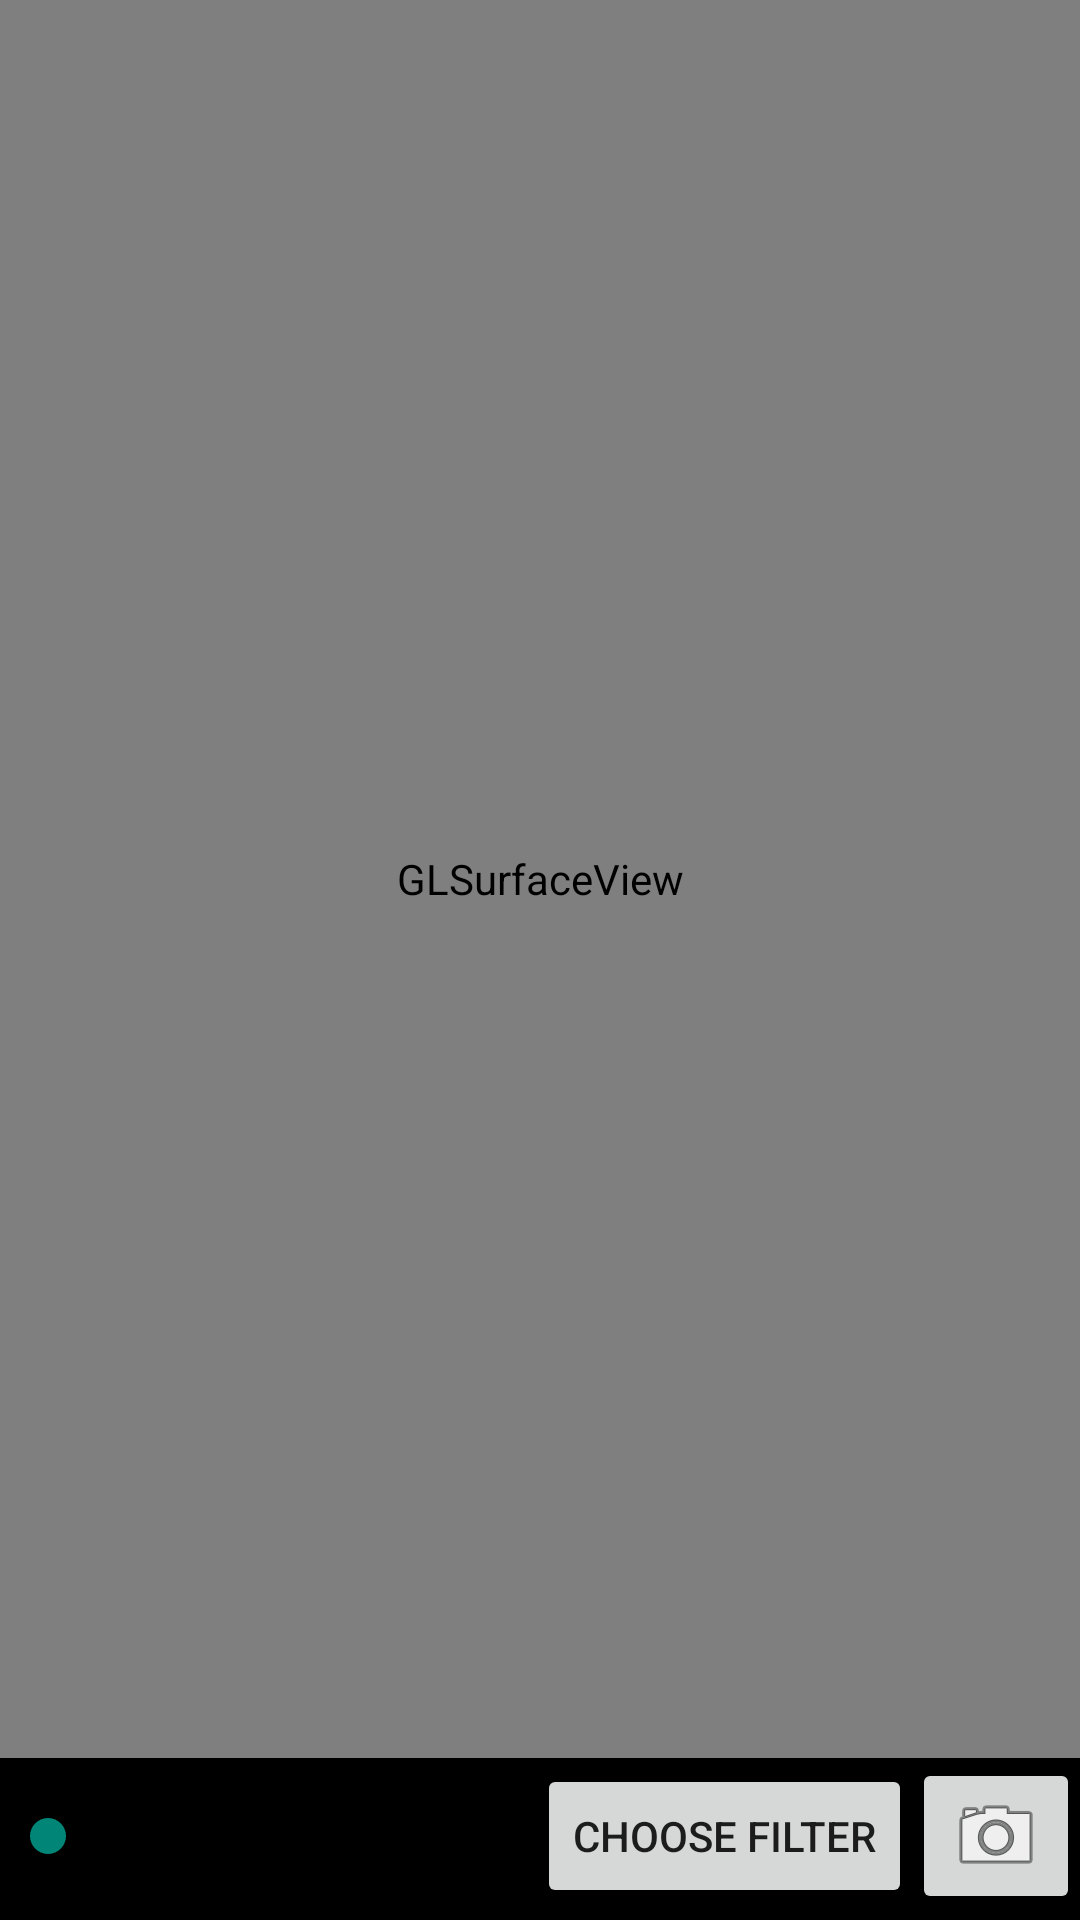

Icons on this 1080×1920 Android screen, each with the point to tap as point (x, y):
camera: point (996, 1836)
